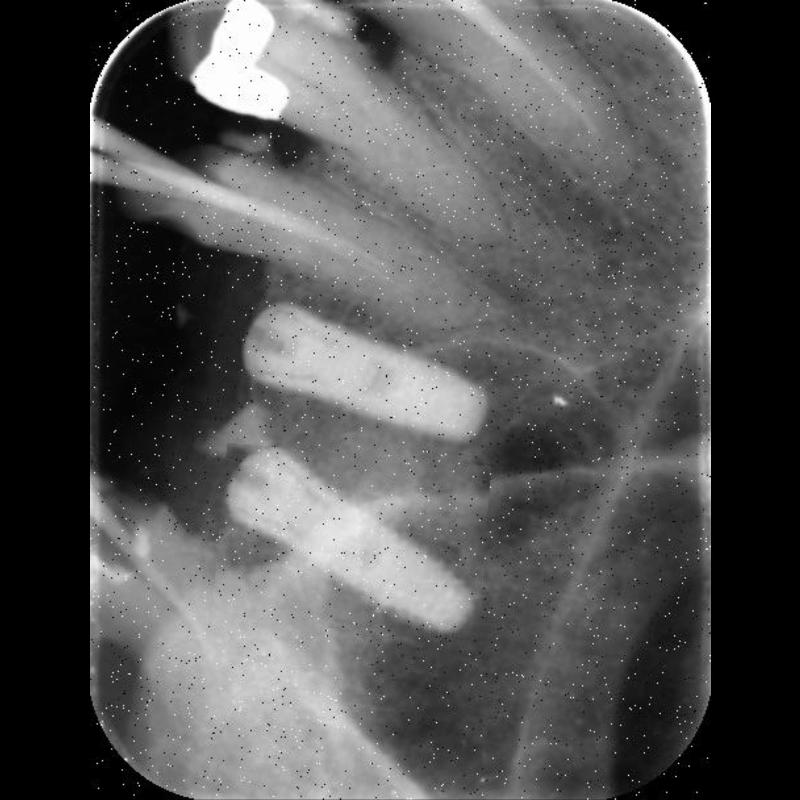Dentium: (215, 448, 487, 636), (238, 299, 492, 441)
